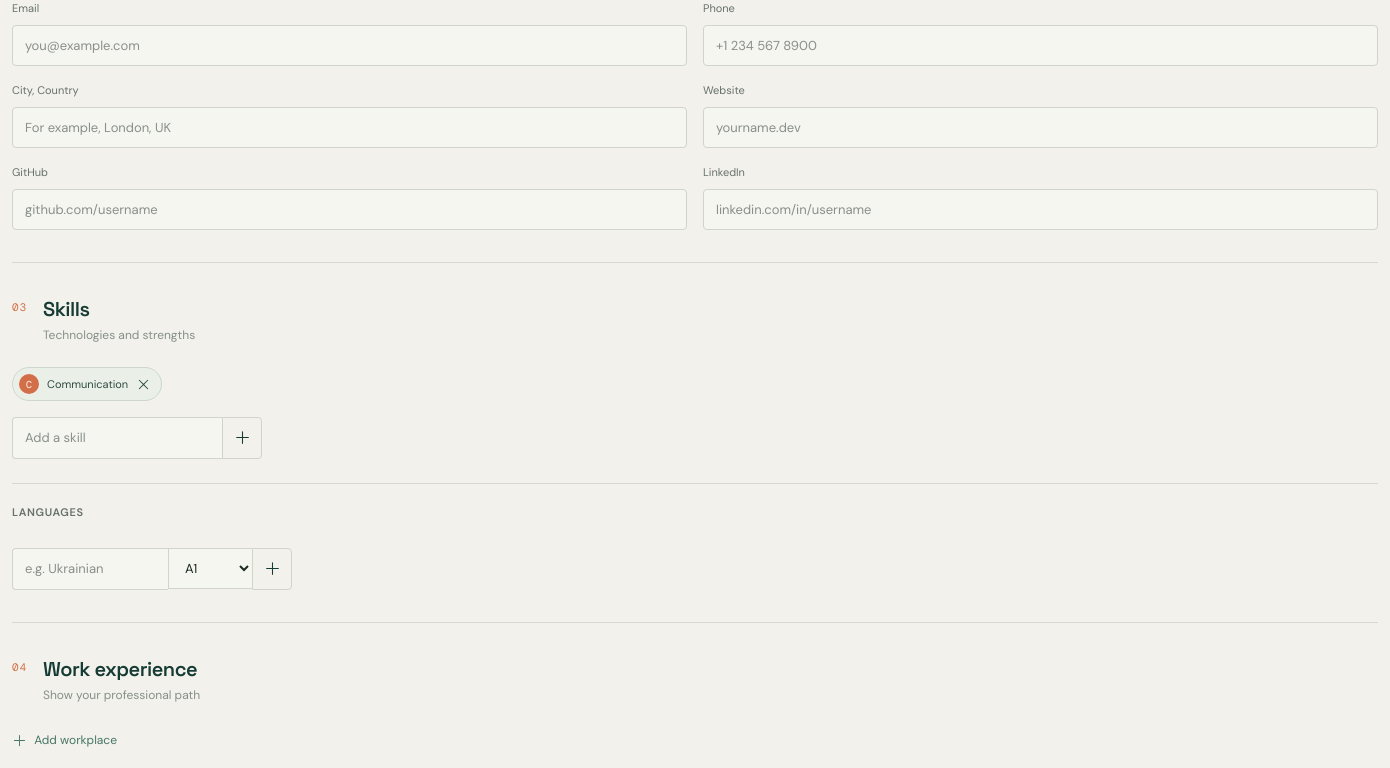
ResumeForm - skills › removes a skill chip
The width and height of the screenshot is (1390, 768).
(page scrolled)
Click the button named "Remove".
click(144, 384)  # box [134,374,153,394]
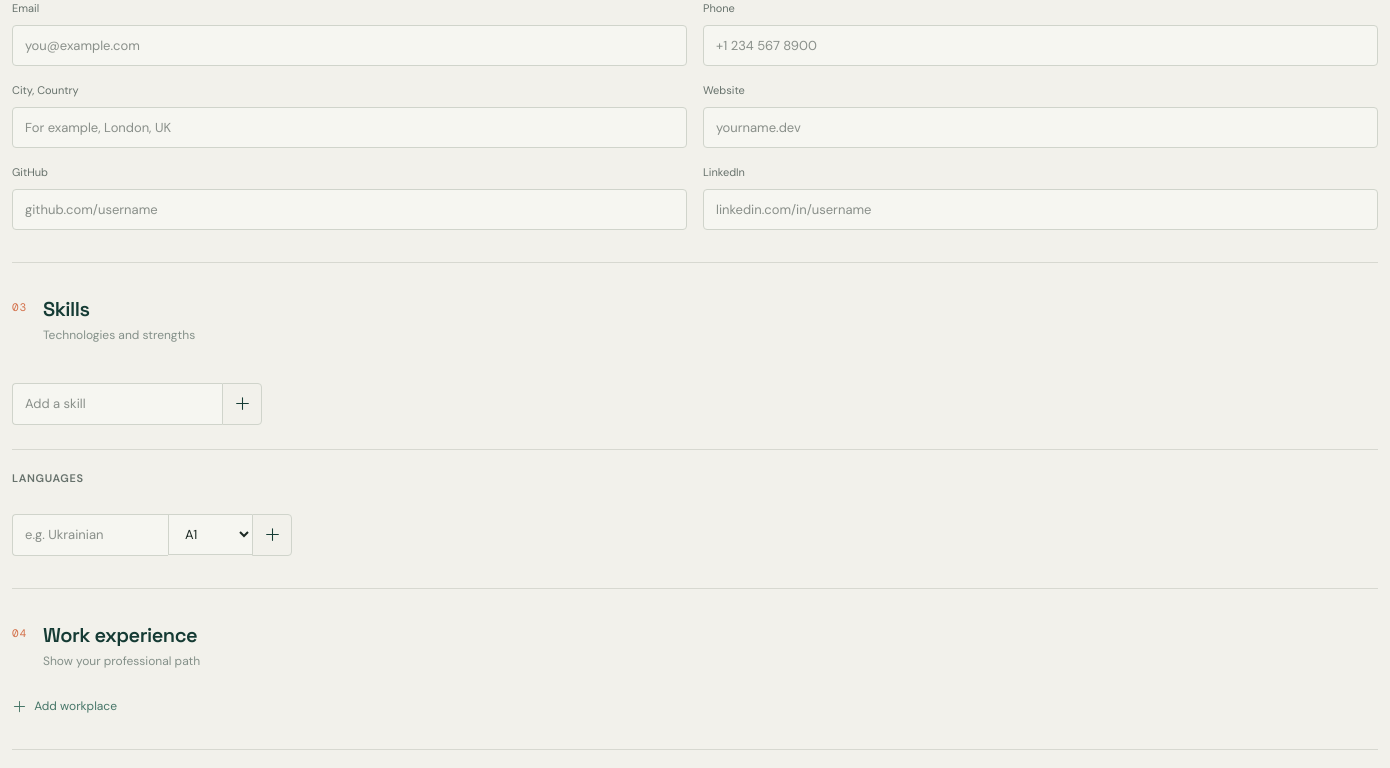
Expected: the text "Communication" is gone
